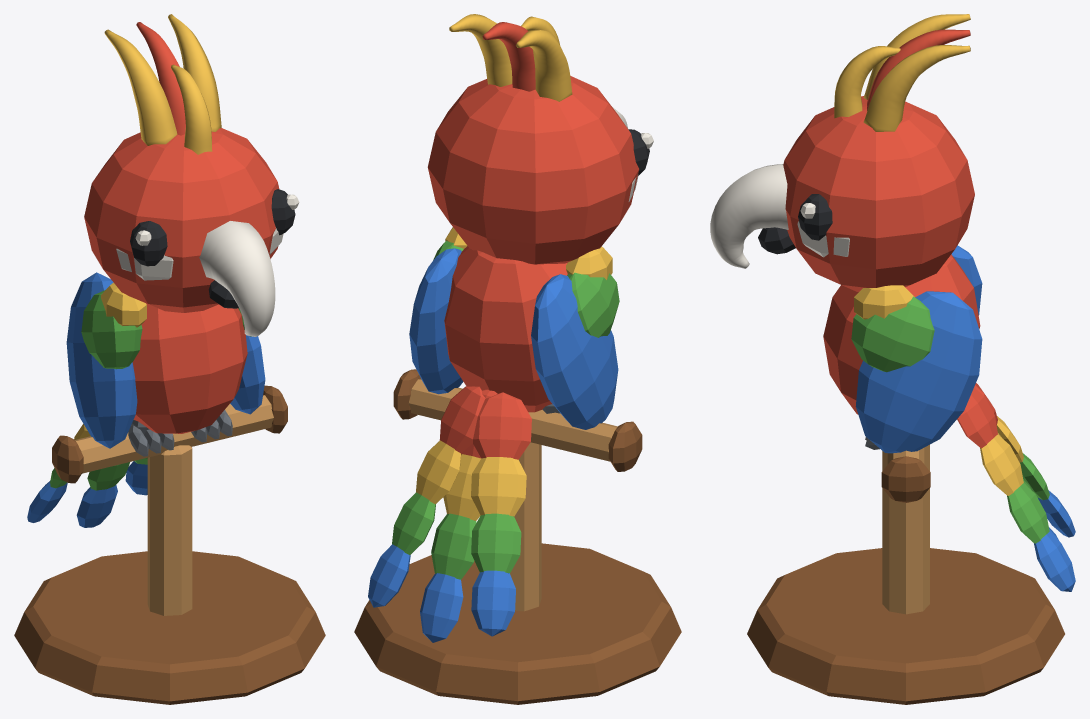
File: rainbow-parrot-pet.glb
The picture shows the model from 3 angles, left to right: view 1: azimuth 30°, elevation 25°; view 2: azimuth 150°, elevation 25°; view 3: azimuth 270°, elevation 25°; orthographic projection. The views are drawn at different scales.
Visible parts, largest first — view 1: Stand_Base, Head, Body, Stand_Post, Wing_L, Beak_Upper, Crest_0, Stand_Perch, WingBand_L, Crest_2, Crest_Front, Crest_1 (+12 smaller); view 2: Stand_Base, Head, Body, Wing_L, Wing_R, Stand_Perch, Stand_Post, Tail_0_0, Tail_0_1, Tail_0_2, Tail_0_3, Crest_0 (+14 smaller); view 3: Stand_Base, Head, Wing_R, Stand_Post, Beak_Upper, Body, WingBand_R, Crest_2, Crest_Front, Stand_Cap_R, Tail_2_1, Tail_2_2 (+11 smaller).
Part boxes in pixels (left/top/right/bottom): Stand_Base: left=14, top=551, right=325, bottom=704; Head: left=84, top=128, right=279, bottom=312; Body: left=132, top=303, right=247, bottom=433; Stand_Post: left=147, top=445, right=192, bottom=615; Wing_L: left=66, top=272, right=137, bottom=448; Beak_Upper: left=199, top=221, right=275, bottom=336; Crest_0: left=104, top=29, right=177, bottom=145; Stand_Perch: left=75, top=395, right=273, bottom=473; WingBand_L: left=81, top=290, right=142, bottom=369; Crest_2: left=168, top=14, right=221, bottom=131; Crest_Front: left=171, top=64, right=212, bottom=154; Crest_1: left=136, top=22, right=185, bottom=135; Stand_Base: left=354, top=543, right=681, bottom=704; Head: left=427, top=76, right=639, bottom=264; Body: left=444, top=246, right=567, bottom=412; Wing_L: left=531, top=274, right=618, bottom=429; Wing_R: left=409, top=248, right=463, bottom=394; Stand_Perch: left=408, top=379, right=617, bottom=461; Stand_Post: left=510, top=442, right=541, bottom=611; Tail_0_0: left=473, top=392, right=531, bottom=459; Tail_0_1: left=471, top=457, right=526, bottom=516; Tail_0_2: left=471, top=513, right=521, bottom=573; Tail_0_3: left=471, top=570, right=515, bottom=636; Crest_0: left=516, top=30, right=572, bottom=101; Stand_Base: left=747, top=548, right=1064, bottom=704; Head: left=783, top=96, right=974, bottom=291; Wing_R: left=855, top=291, right=982, bottom=453; Stand_Post: left=882, top=444, right=929, bottom=614; Beak_Upper: left=710, top=164, right=788, bottom=268; Body: left=823, top=254, right=980, bottom=414; WingBand_R: left=851, top=296, right=934, bottom=372; Crest_2: left=863, top=45, right=970, bottom=131; Crest_Front: left=834, top=46, right=900, bottom=118; Stand_Cap_R: left=881, top=456, right=930, bottom=502; Tail_2_1: left=980, top=434, right=1023, bottom=495; Tail_2_2: left=1007, top=483, right=1049, bottom=543.
Bounding box in the file's own units: 1.48 × 3.12 × 1.7.
